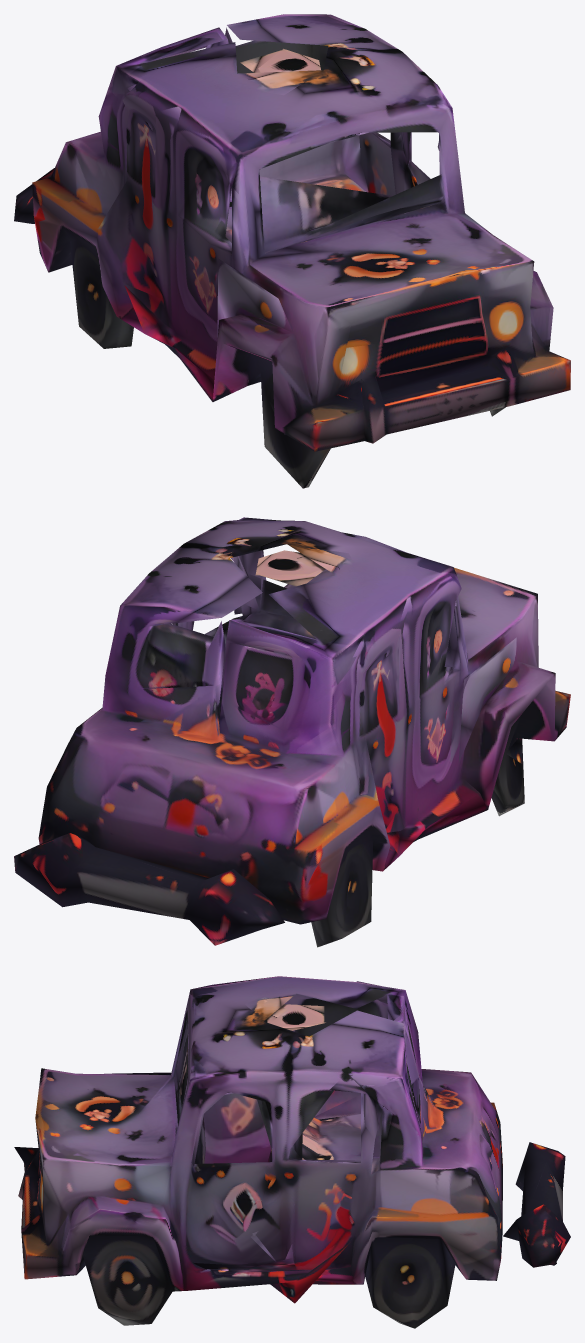
File: vintage+car+3d+model.obj
3 renders of one model, top to bottom at view 1: azimuth 30°, elevation 25°; view 2: azimuth 150°, elevation 25°; view 3: azimuth 270°, elevation 25°, orthographic. The views are drawn at different scales.
Parts seen in each view (by area): view 1: tripo_node_4d1a184e-ccca-4e16-869b-031cdfcedd06; view 2: tripo_node_4d1a184e-ccca-4e16-869b-031cdfcedd06; view 3: tripo_node_4d1a184e-ccca-4e16-869b-031cdfcedd06.
Part boxes in pixels (left/top/right/bottom): tripo_node_4d1a184e-ccca-4e16-869b-031cdfcedd06: left=14, top=14, right=570, bottom=488; tripo_node_4d1a184e-ccca-4e16-869b-031cdfcedd06: left=14, top=517, right=570, bottom=947; tripo_node_4d1a184e-ccca-4e16-869b-031cdfcedd06: left=14, top=976, right=570, bottom=1328.
Bounding box in the file's own units: 0.5117 × 0.5461 × 1.01.
Materials: 1 (1 with a texture image).
